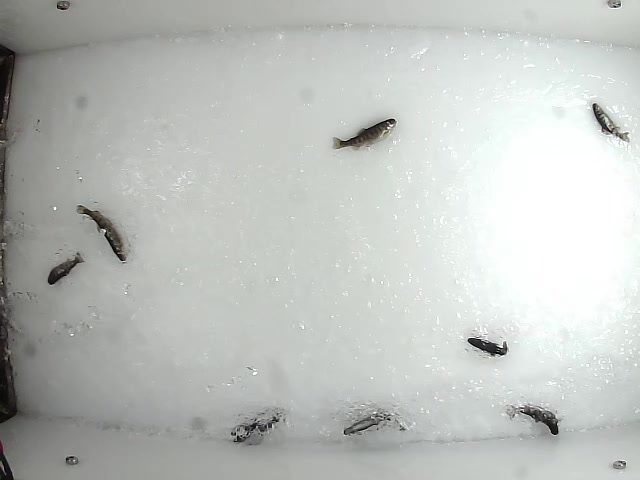fish: (76, 203, 128, 266), (331, 116, 398, 152), (228, 407, 286, 446), (589, 100, 634, 149), (506, 402, 562, 438), (339, 407, 411, 435), (44, 246, 88, 286), (462, 333, 509, 359)
